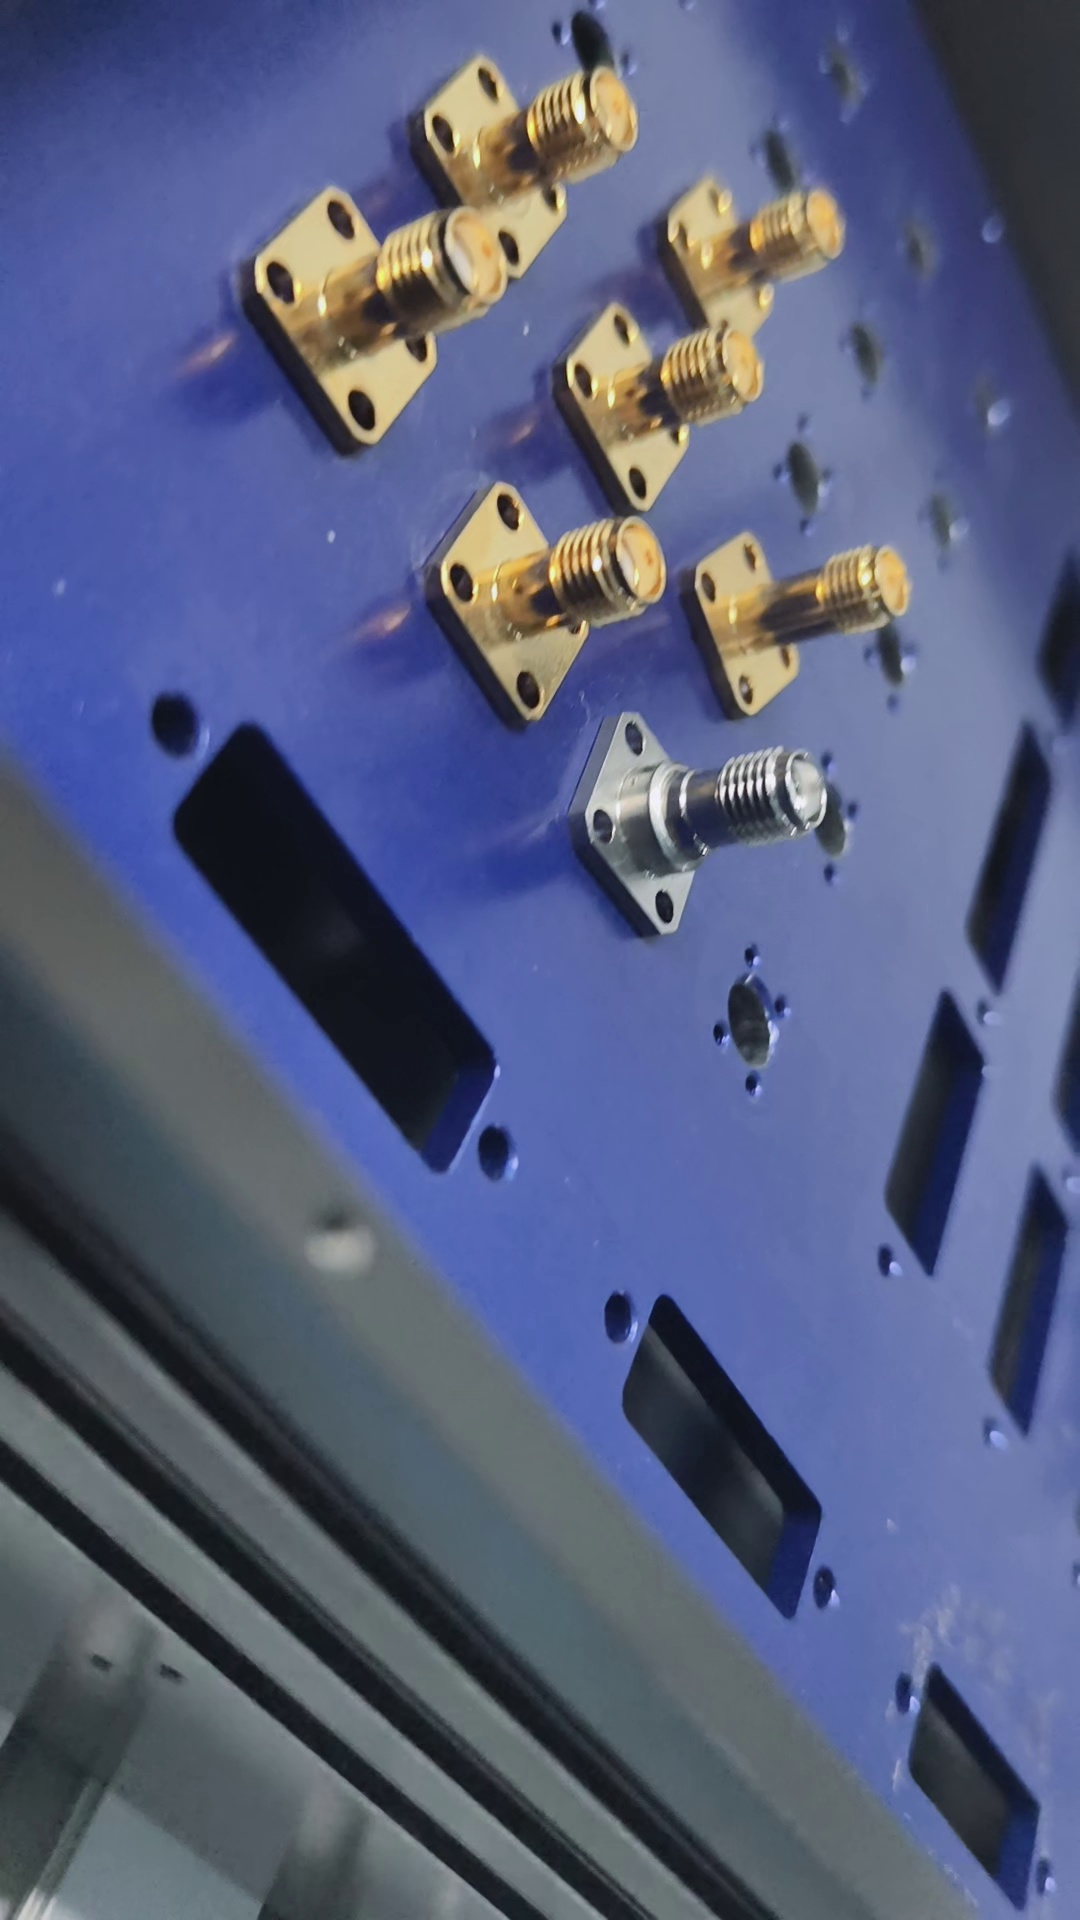SMA: (255, 185, 512, 450), (431, 458, 667, 727), (571, 694, 829, 938), (560, 280, 771, 522), (687, 520, 916, 724)
